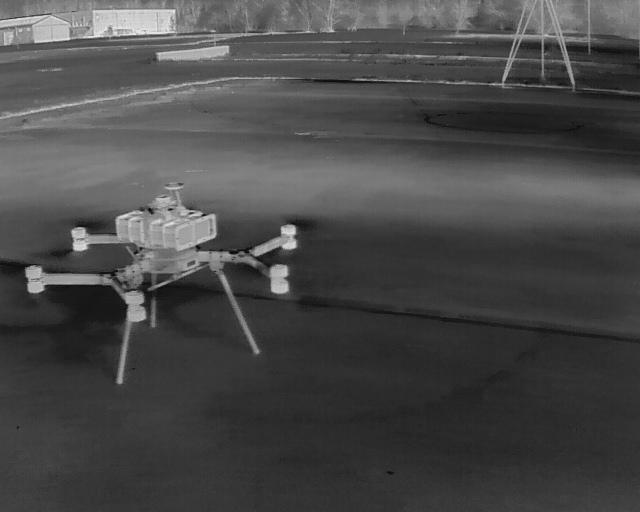drone: (0, 174, 333, 377)
